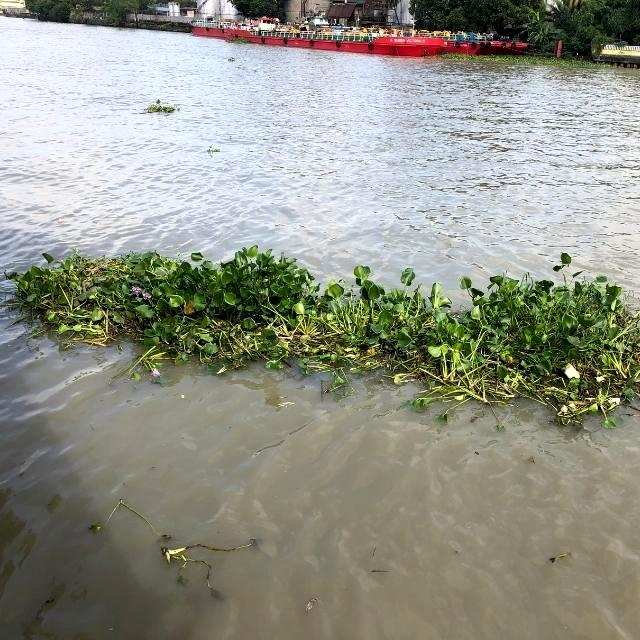water-hyacinth: (17, 226, 640, 429), (140, 93, 180, 114)
